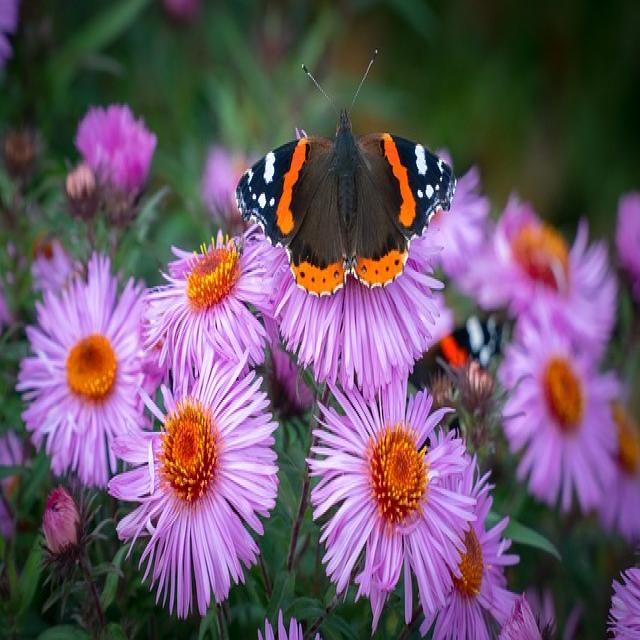butterfly: (234, 46, 456, 297)
